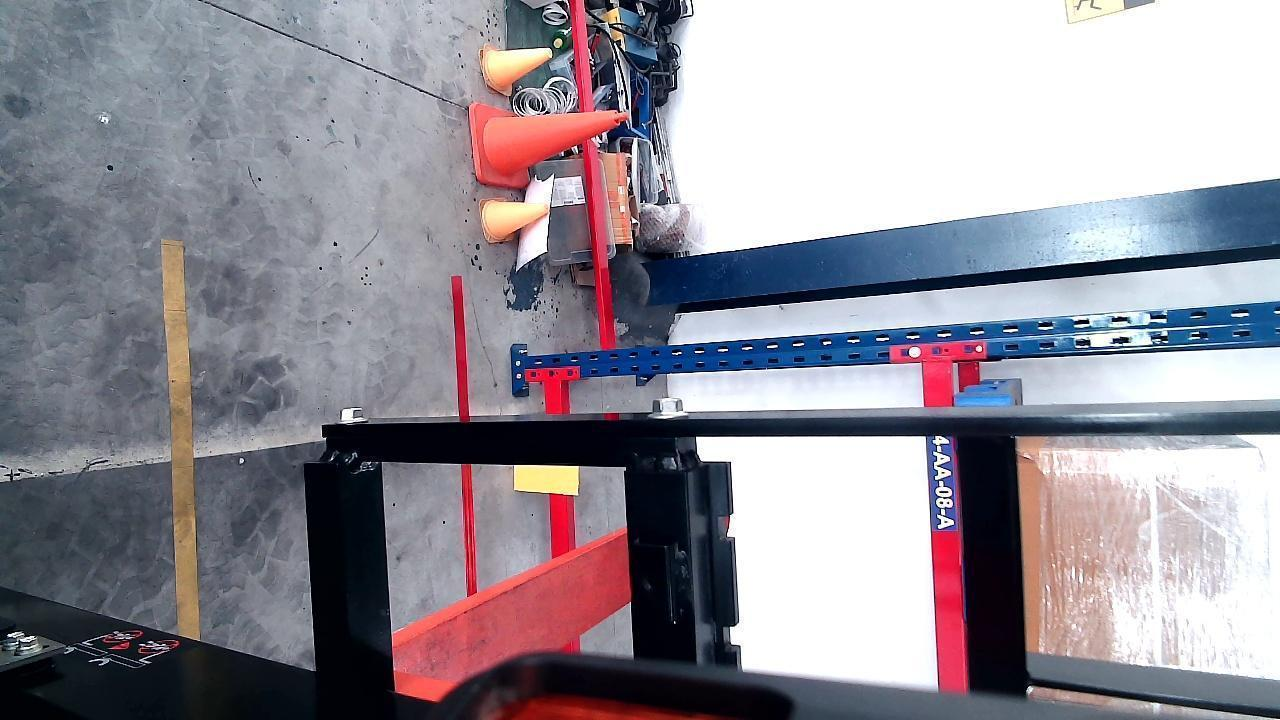red_line: (448, 267, 478, 596)
yellow_line: (163, 236, 199, 641)
